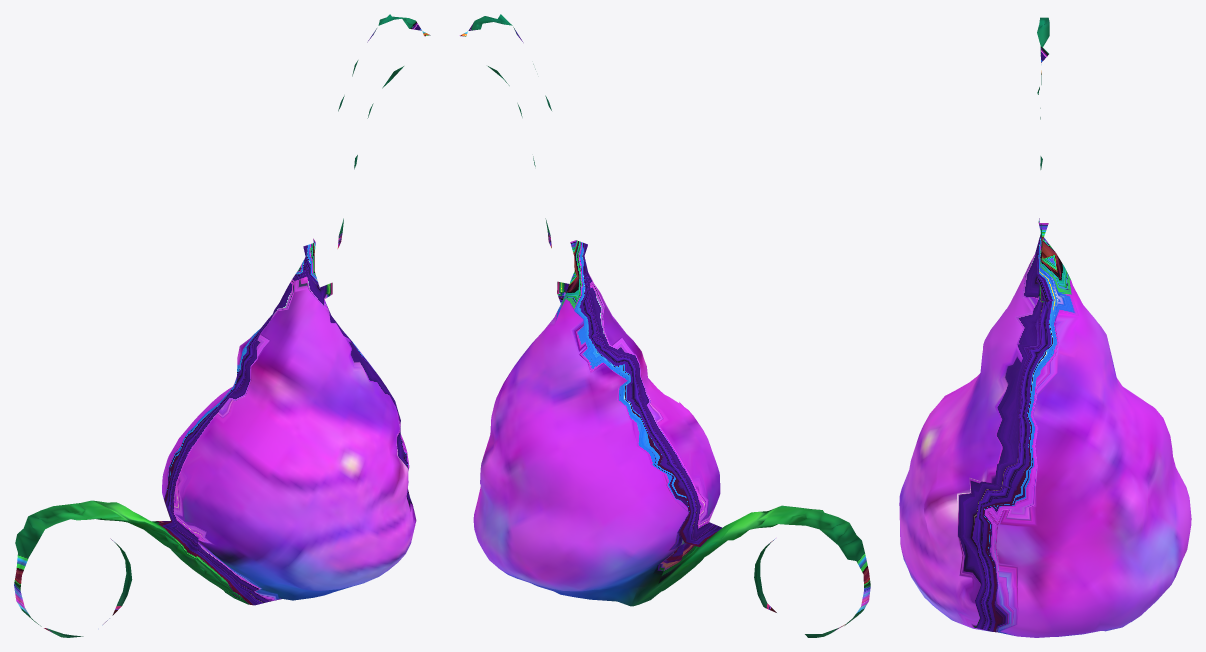
The picture shows the model from 3 angles, left to right: view 1: azimuth 30°, elevation 25°; view 2: azimuth 150°, elevation 25°; view 3: azimuth 270°, elevation 25°; orthographic projection. The views are drawn at different scales.
Visible parts, largest first — view 1: model.002; view 2: model.002; view 3: model.002.
Boxes of the visible parts, x1=… form: model.002: x1=14, y1=14, x2=430, y2=637; model.002: x1=459, y1=14, x2=870, y2=637; model.002: x1=899, y1=17, x2=1191, y2=637.
Bounding box in the file's own units: 0.934 × 1.2 × 0.4744.
Materials: 1 (1 with a texture image).
